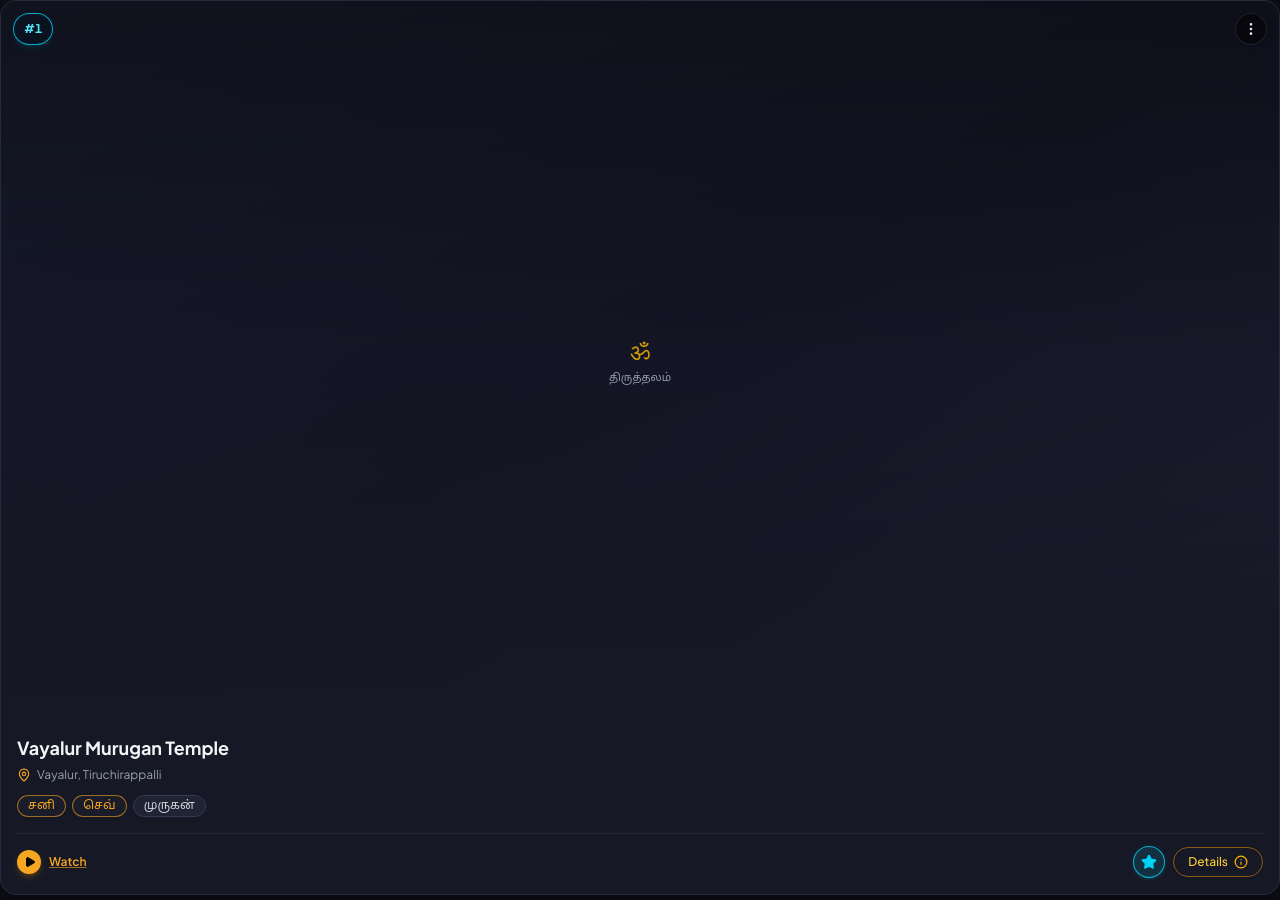
Test: Phase 2: Jothidar Paarvai Feature Tests › displays yellow star button on TempleCard & TempleDetailModal and shows saved text when tapped
Later steps or results of the test are not shown.
expect the button "பாவ/ராசி தொடர்பு" is not shown: met
expect the text "வயலூர் - கடக ராசி குறிக்கும் ஜோதிடர் குறிப்பு" is not shown: met
Click the button named "பாவ/ராசி தொடர்பு": {"x": 1149, "y": 862} [1133, 846, 1165, 878]
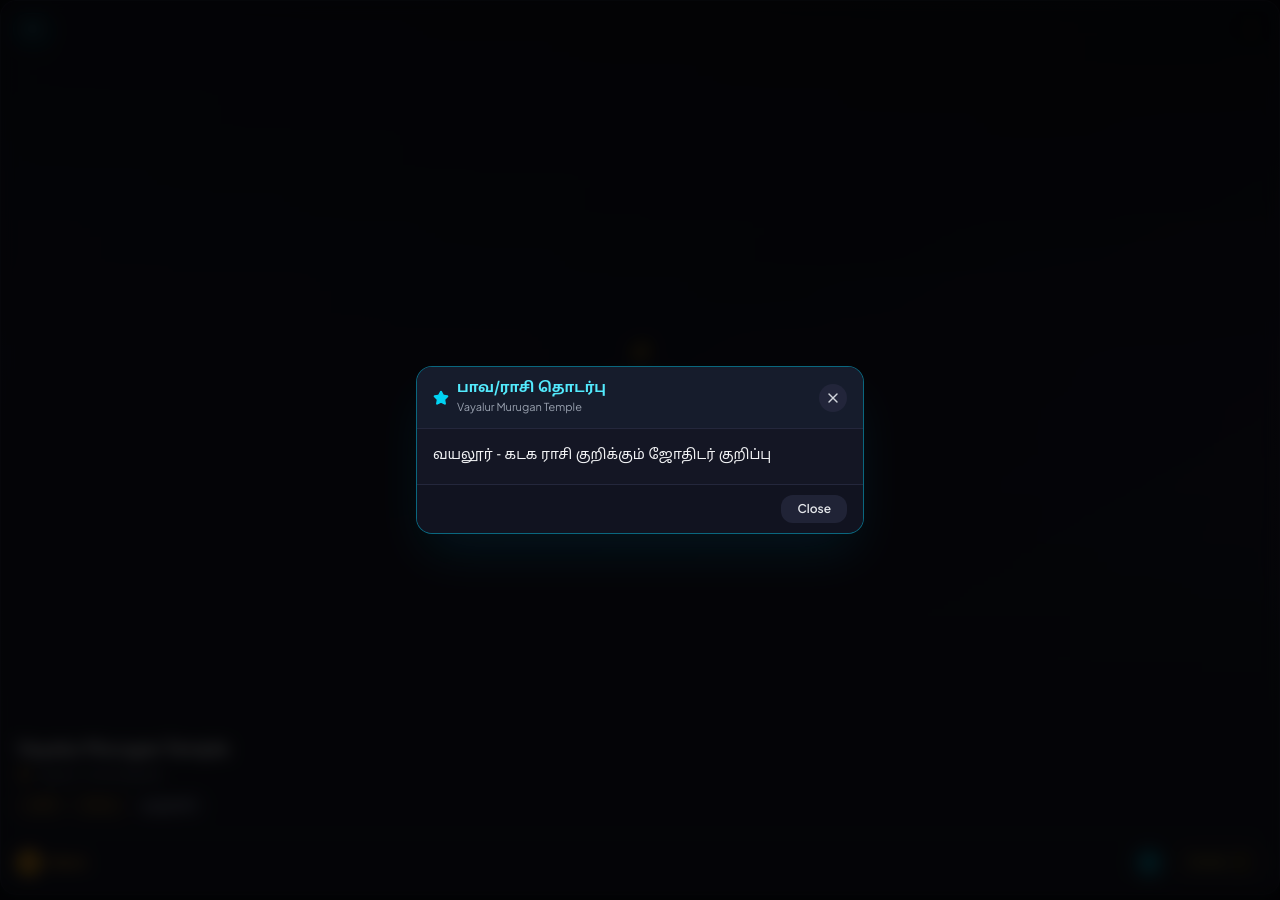
expect the text "வயலூர் - கடக ராசி குறிக்கும் ஜோதிடர் குறிப்பு" is shown: met, box [433, 447, 771, 464]
